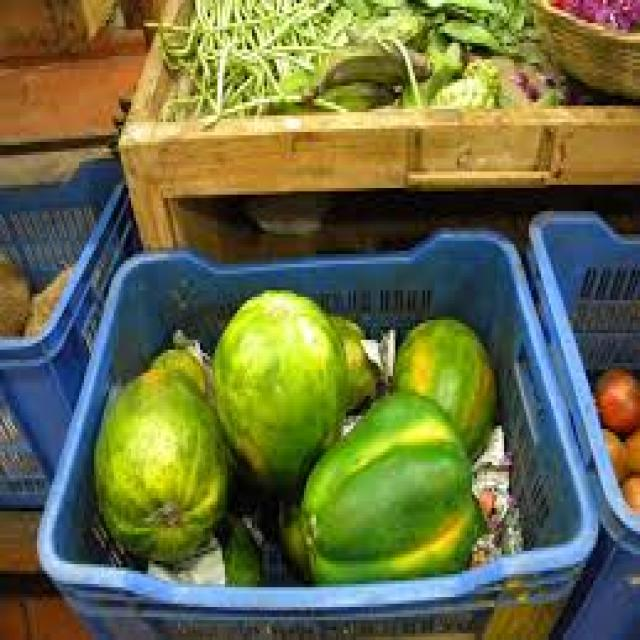organic waste: (299, 389, 487, 581), (187, 0, 526, 102), (91, 343, 230, 561), (215, 287, 343, 495), (393, 313, 497, 452), (309, 40, 432, 92), (328, 313, 386, 406), (215, 505, 262, 584), (20, 261, 69, 333), (593, 366, 638, 432), (274, 63, 341, 99), (0, 254, 27, 330), (324, 79, 400, 102), (600, 426, 628, 478), (553, 0, 637, 16), (583, 10, 638, 26), (622, 429, 638, 482), (622, 472, 638, 498)
